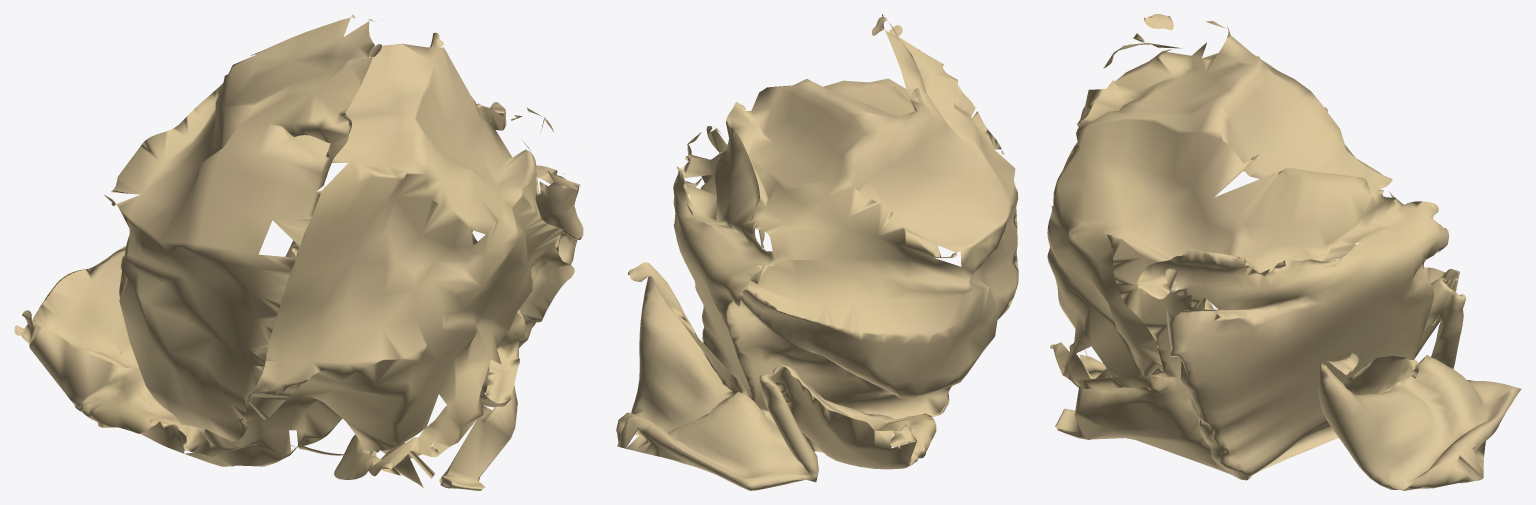
Rendered from crumpled-paper.glb.
The picture shows the model from 3 angles, left to right: view 1: azimuth 30°, elevation 25°; view 2: azimuth 150°, elevation 25°; view 3: azimuth 270°, elevation 25°; orthographic projection. The views are drawn at different scales.
Parts seen in each view (by area): view 1: tripo_83cf641c_8138_4a7a_add7_42a209dd70bb; view 2: tripo_83cf641c_8138_4a7a_add7_42a209dd70bb; view 3: tripo_83cf641c_8138_4a7a_add7_42a209dd70bb.
Part boxes in pixels (<box>): tripo_83cf641c_8138_4a7a_add7_42a209dd70bb: <box>14,14,583,490</box>; tripo_83cf641c_8138_4a7a_add7_42a209dd70bb: <box>616,14,1018,490</box>; tripo_83cf641c_8138_4a7a_add7_42a209dd70bb: <box>1047,14,1521,490</box>.
Size of the model in its own units: 0.8921 by 0.938 by 0.9995.
1 material, 1 textured.
